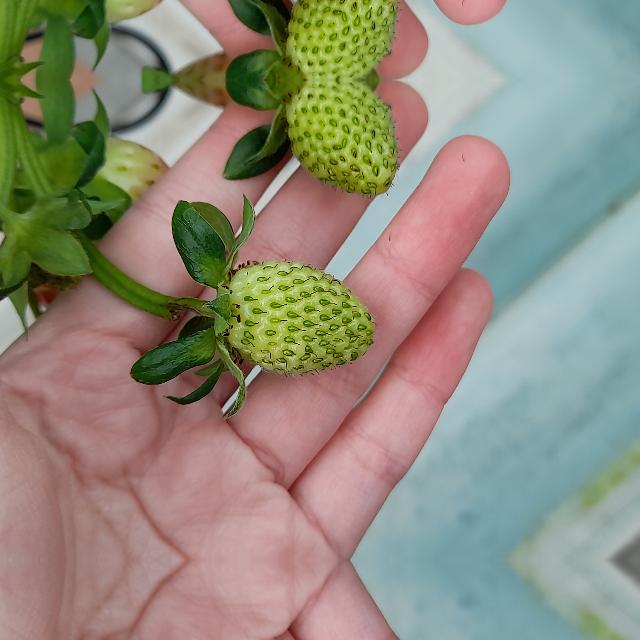Health_25: (227, 260, 376, 374), (283, 80, 401, 200), (283, 0, 401, 80)
